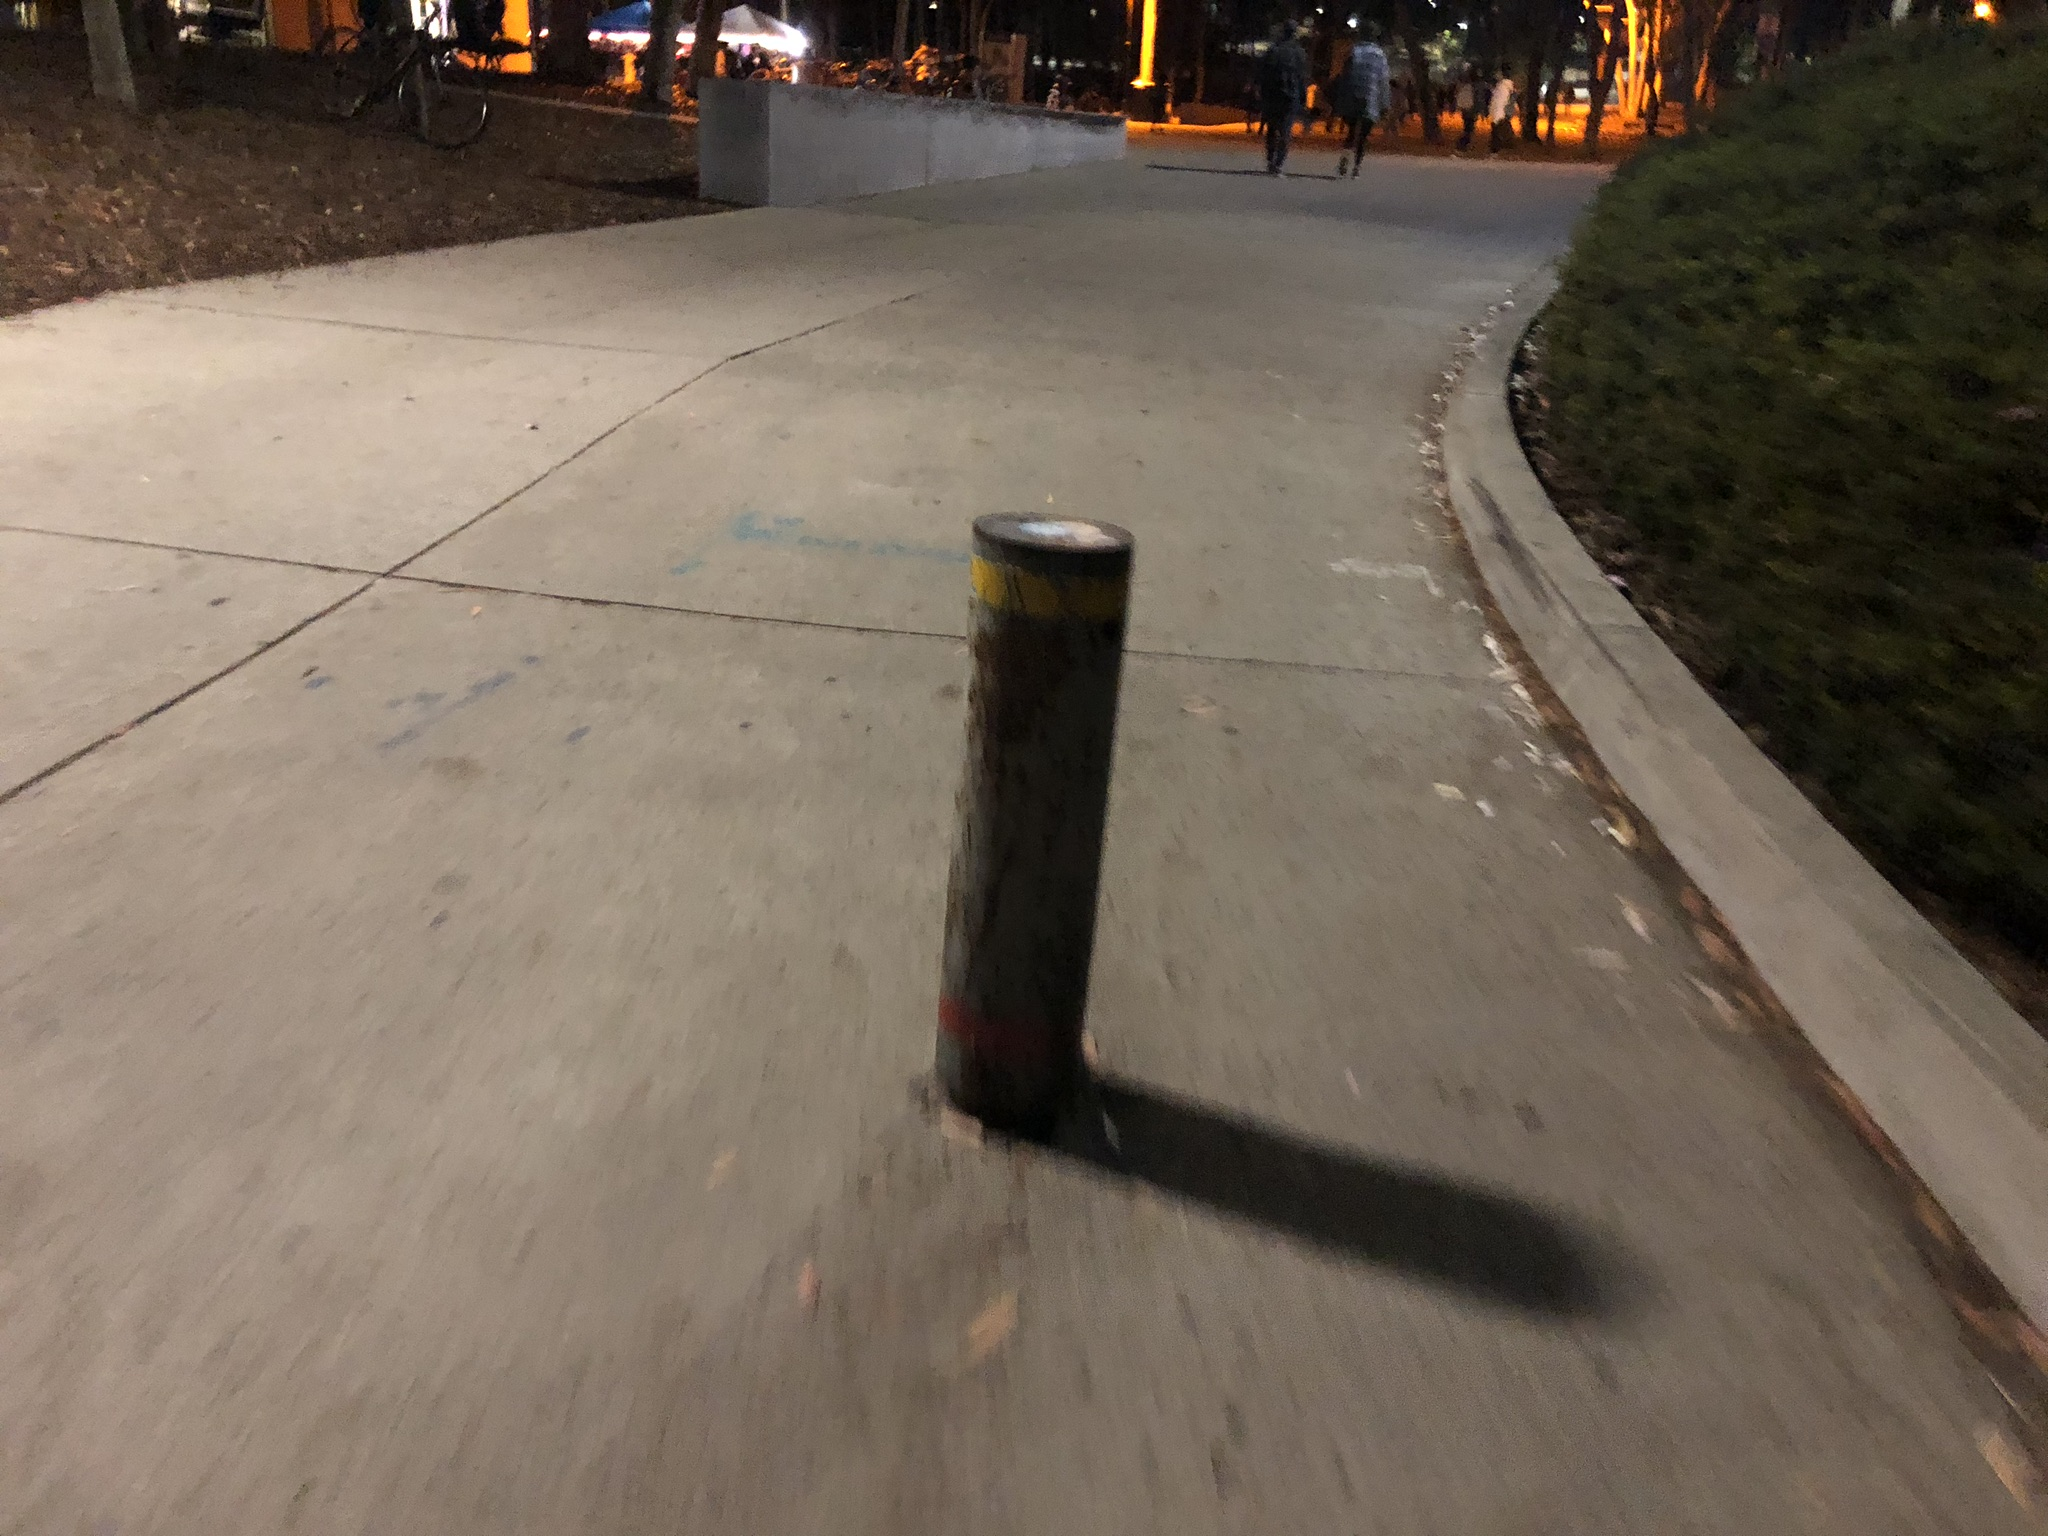Edge: (1798, 787, 2037, 1283), (10, 198, 755, 316), (1438, 248, 1556, 682), (1555, 486, 1658, 820), (1663, 665, 1787, 933)
Obstacle: (929, 521, 1130, 1149)
